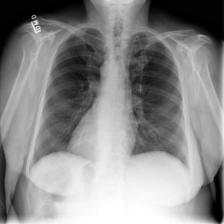normal: (23, 23, 196, 185)
